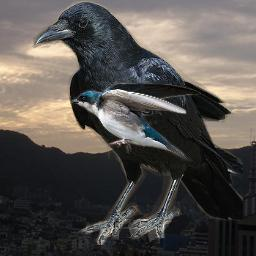Crow: (32, 0, 243, 245)
Swallow: (71, 81, 201, 161)
